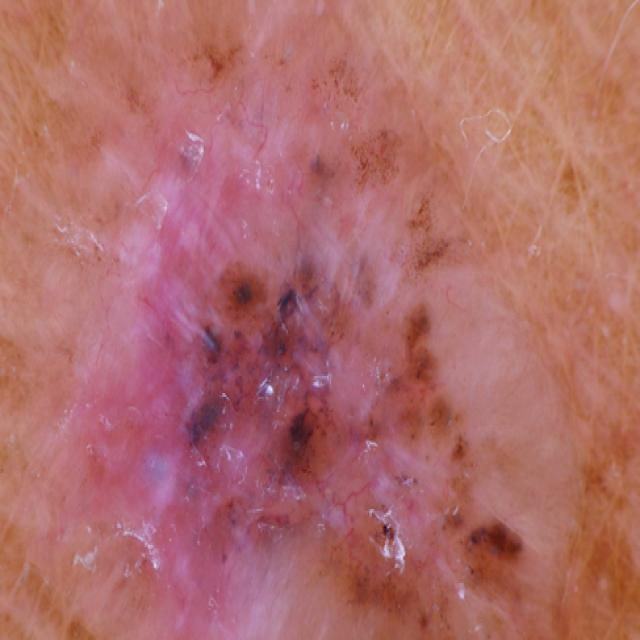Carcinoma: (68, 30, 606, 640)
